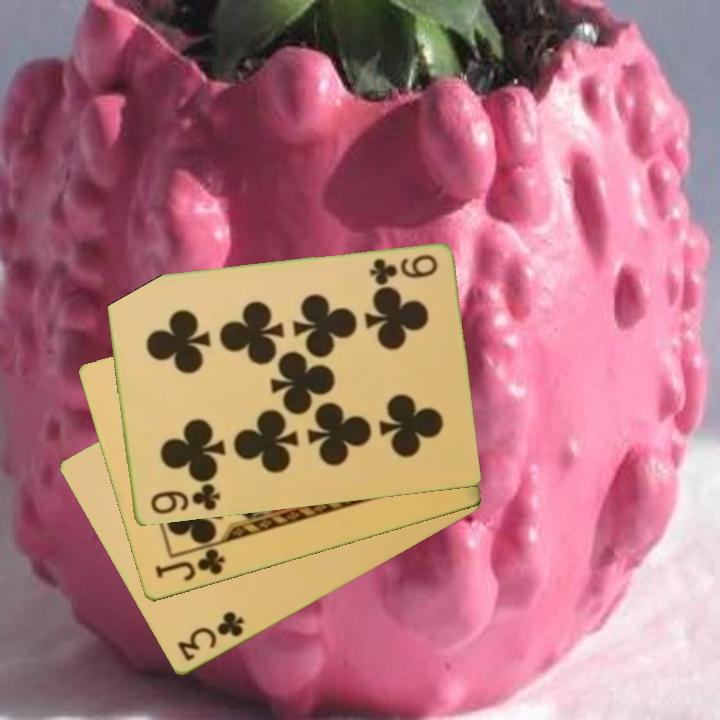3c: (173, 608, 247, 665)
9c: (146, 480, 223, 518), (365, 251, 440, 288)
Jc: (151, 545, 228, 585)
